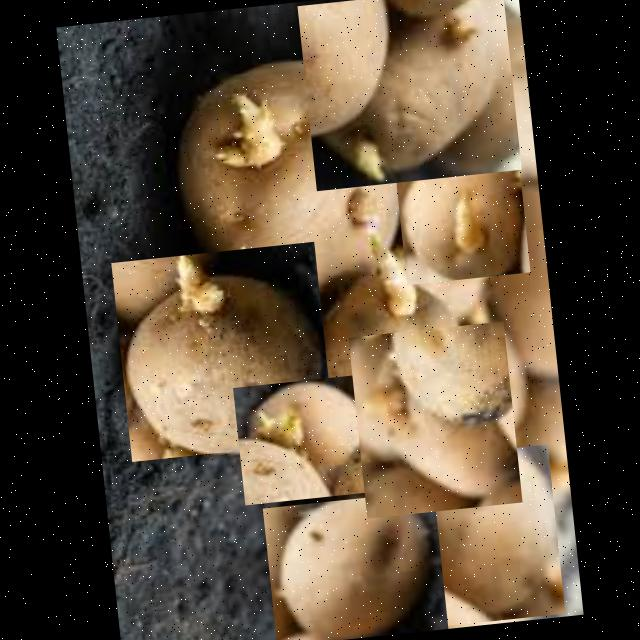Sprouted potato: (170, 48, 422, 294), (110, 240, 334, 460), (297, 0, 521, 190), (302, 223, 481, 436), (348, 320, 522, 517), (406, 443, 565, 627), (262, 489, 448, 640), (232, 371, 392, 504), (394, 150, 530, 284)
